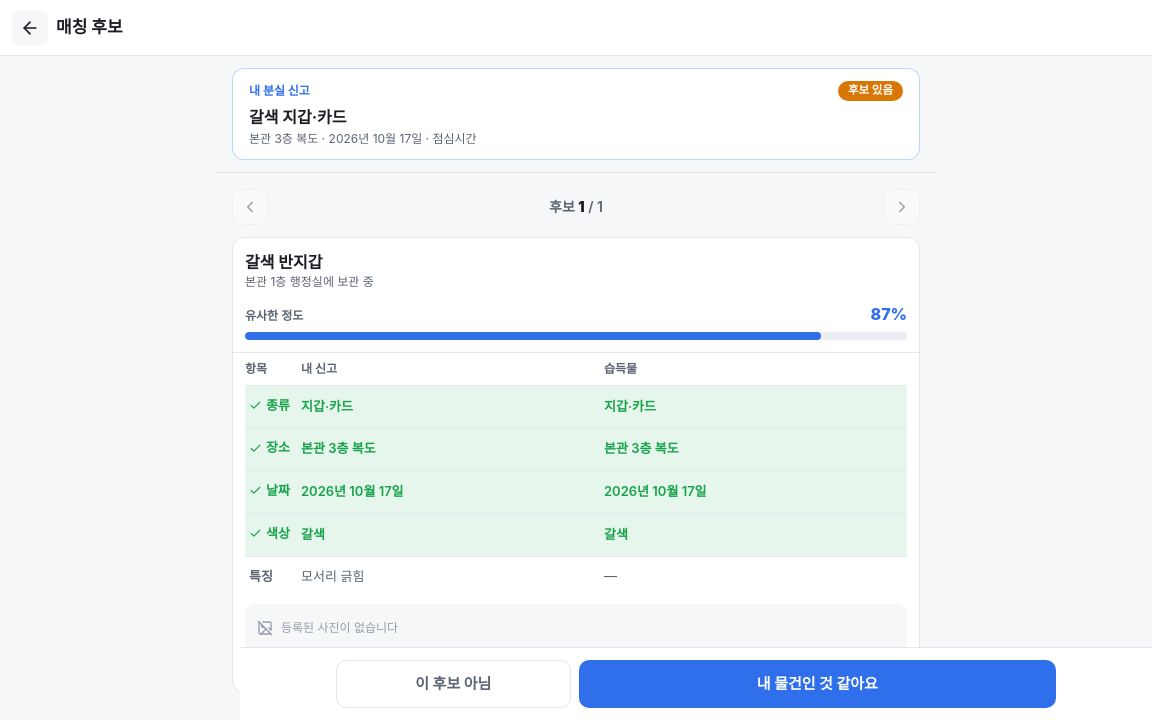
MatchesPage › 제외 실패는 문구로 알리고 후보는 그대로
Click the button "이 후보 아님": point(453, 684) x1=336 y1=660 x2=571 y2=708
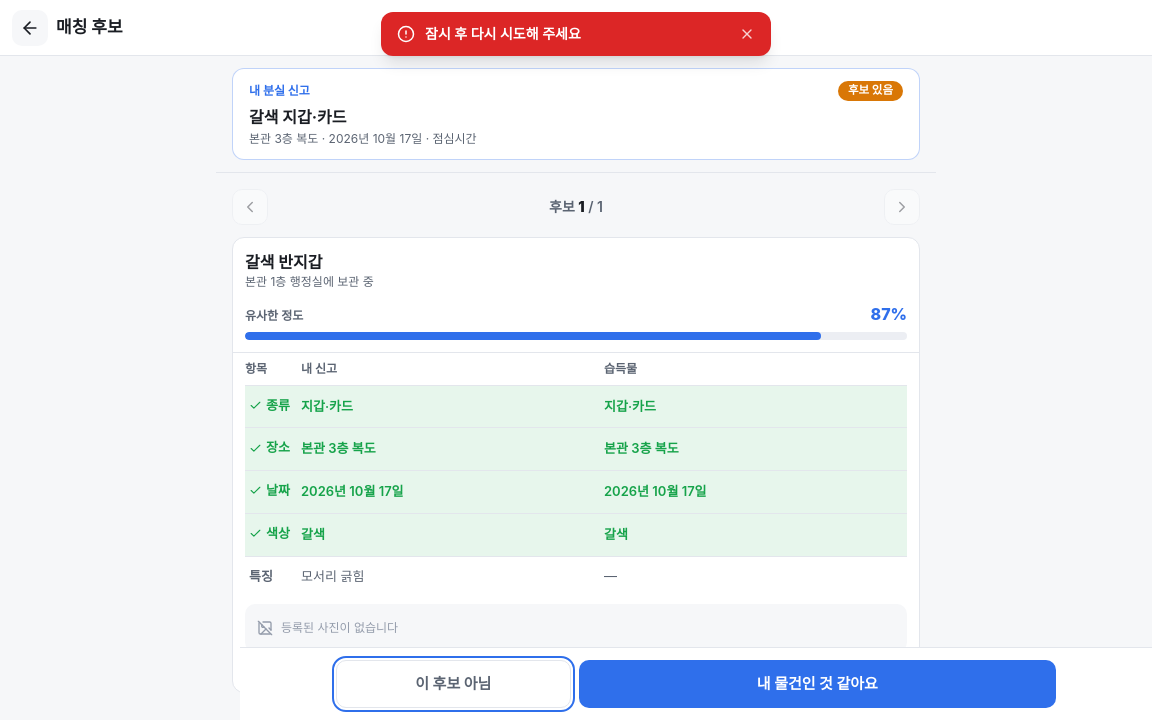
Check: the element named "후보 갈색 반지갑" is shown, box x1=232 y1=236 x2=920 y2=692
Check: the message reads "잠시 후 다시 시도해 주세요", box x1=425 y1=25 x2=581 y2=42
